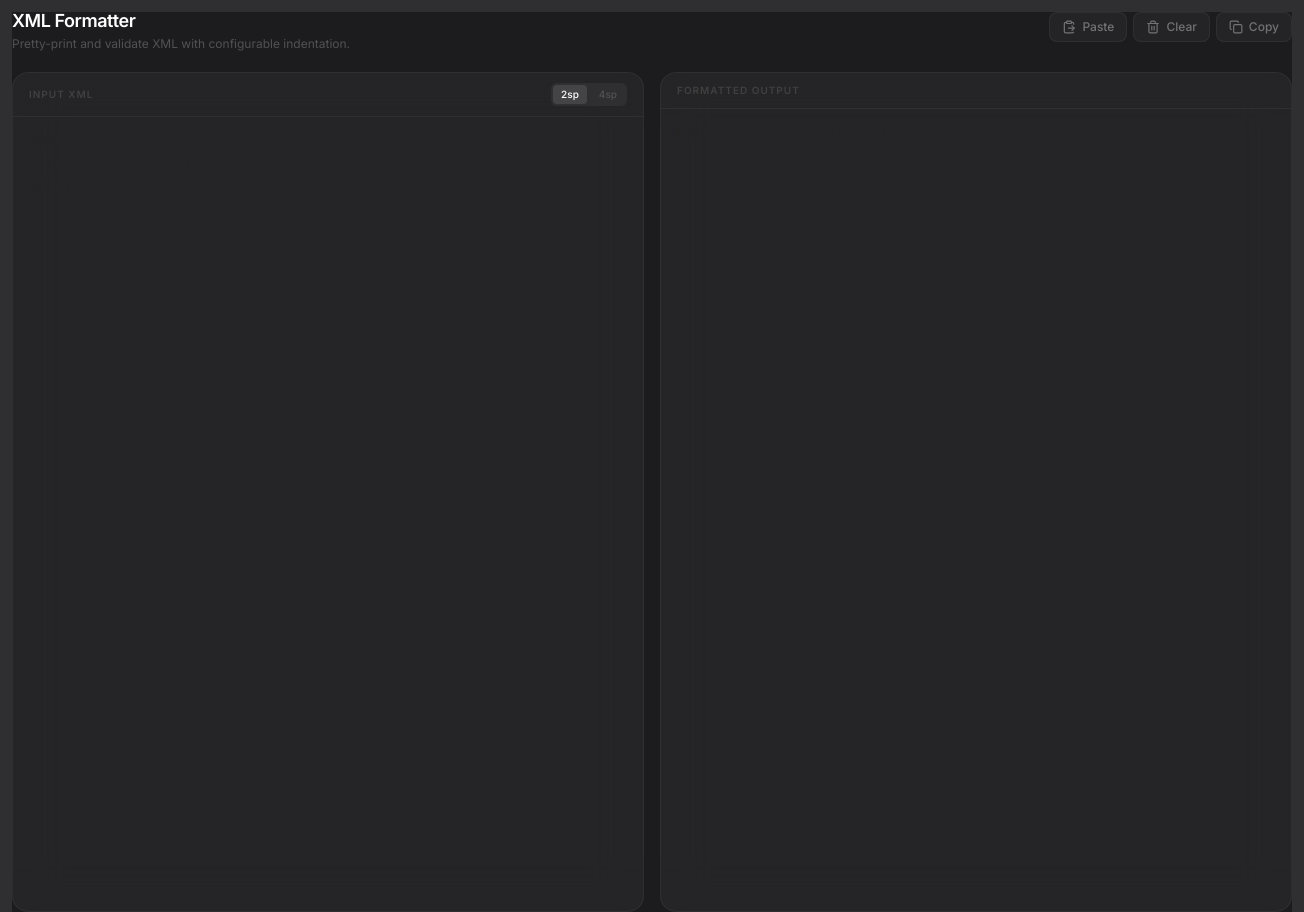
XmlFormatter › pastes text when Paste is clicked
Click the button titled "Paste from clipboard": click(1088, 27) [1049,12,1127,42]
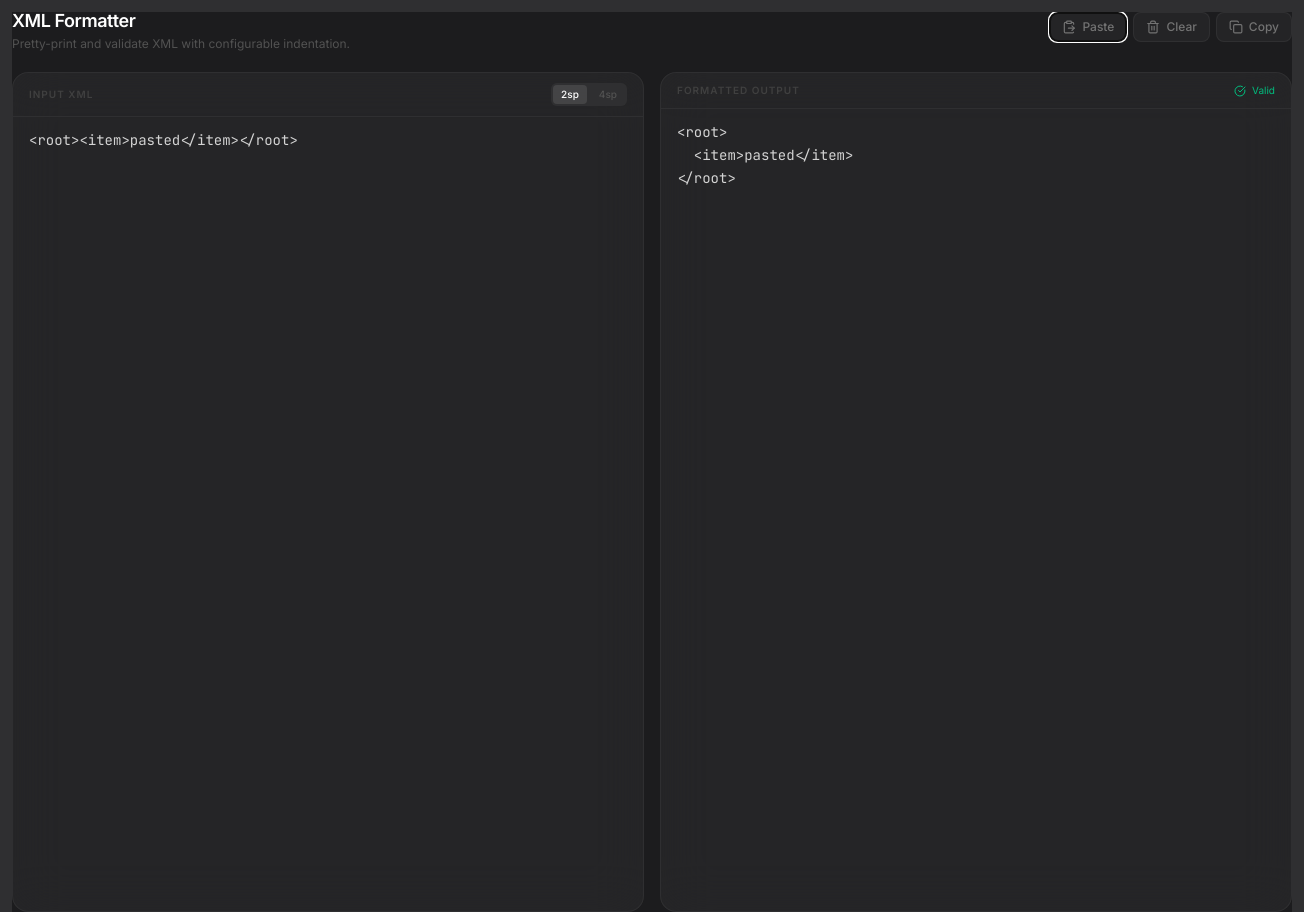
Result: the text box with placeholder "<root> <item id=\"1\">value</item> </root>" holds "<root><item>pasted</item></root>" at [13,117,643,911]
